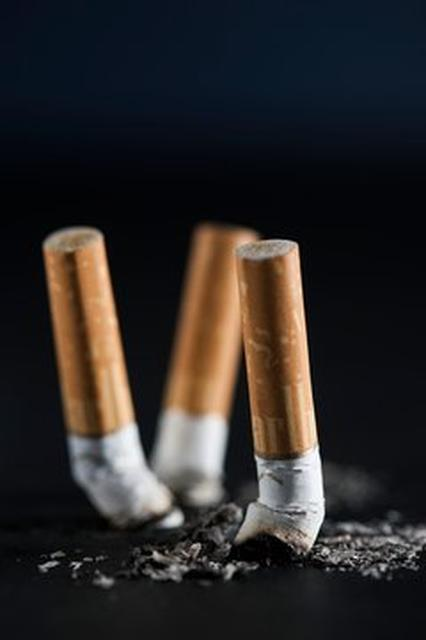Cigarette: (41, 224, 184, 531), (148, 220, 259, 510), (230, 237, 326, 556)
